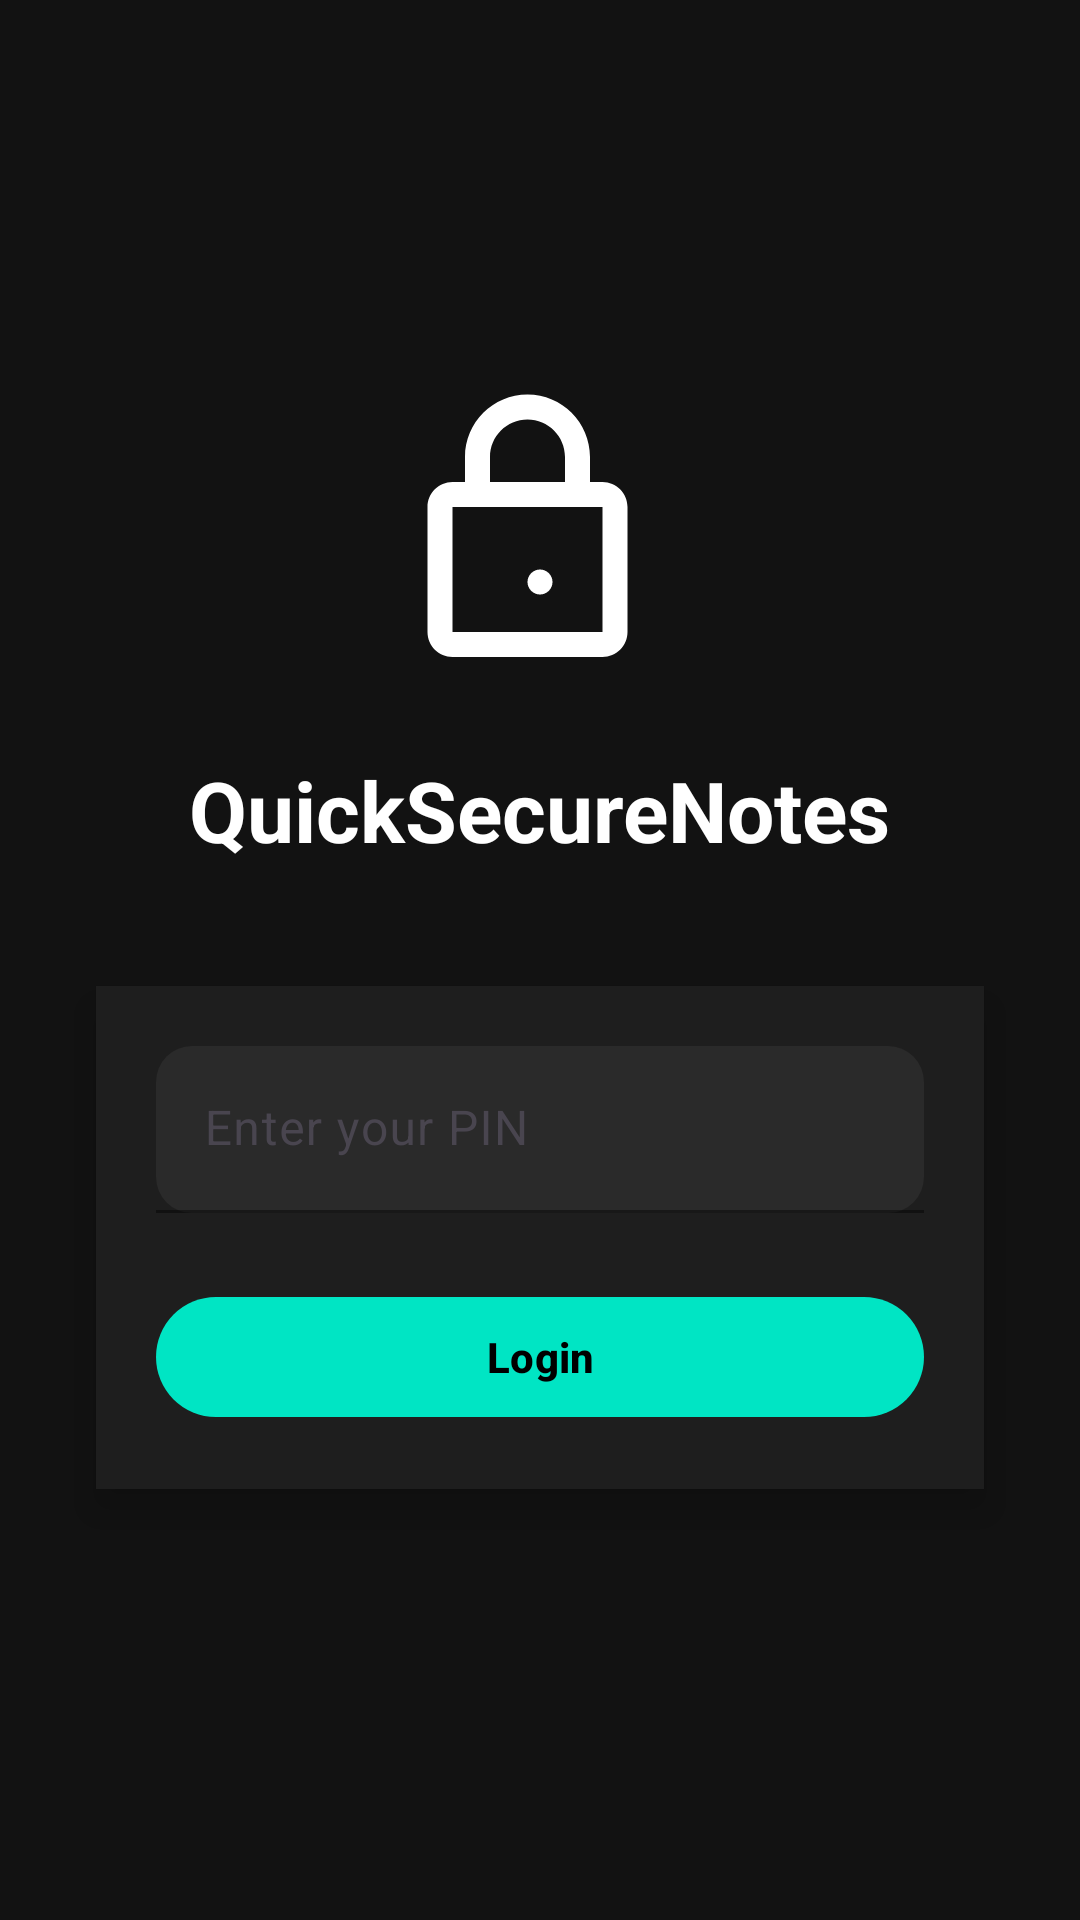

Where to tap for icons on this 1080*1920 app screen, as point (x, y):
lock: point (527, 525)
